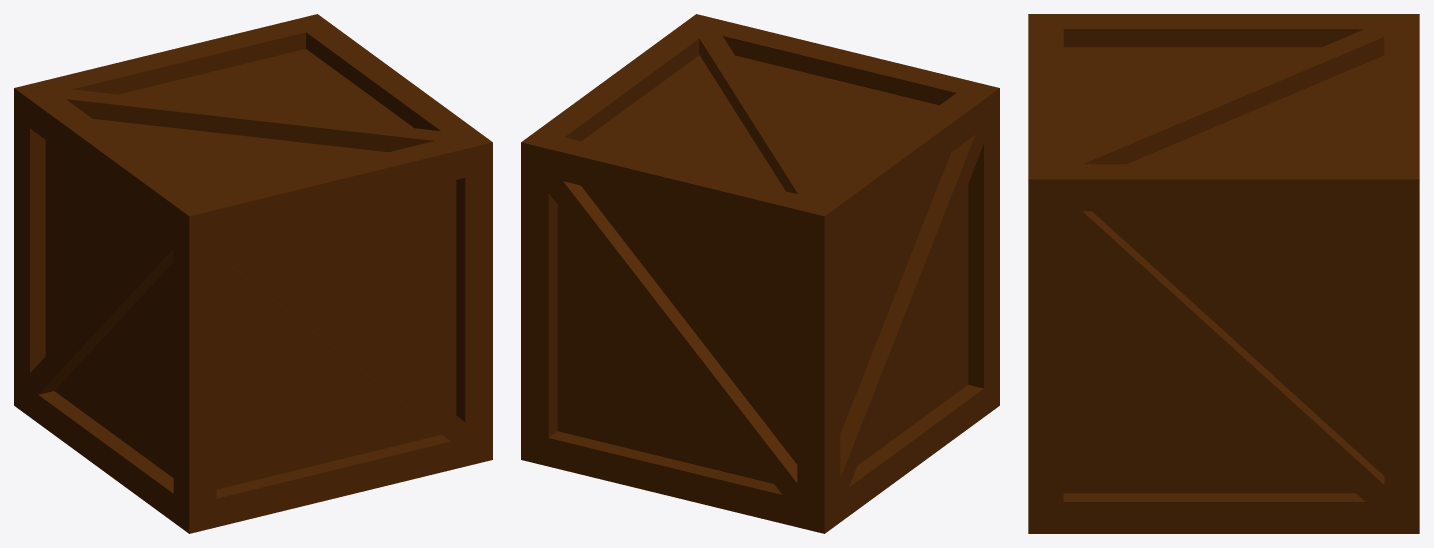
Rendered from Crate.fbx.
The picture shows the model from 3 angles, left to right: view 1: azimuth 30°, elevation 25°; view 2: azimuth 150°, elevation 25°; view 3: azimuth 270°, elevation 25°; orthographic projection. The views are drawn at different scales.
Visible parts, largest first — view 1: Crate; view 2: Crate; view 3: Crate.
Boxes of the visible parts, <box> form: Crate: <box>14,14,492,533</box>; Crate: <box>521,14,999,533</box>; Crate: <box>1028,14,1419,533</box>.
Bounding box in the file's own units: 1 × 1 × 1.
